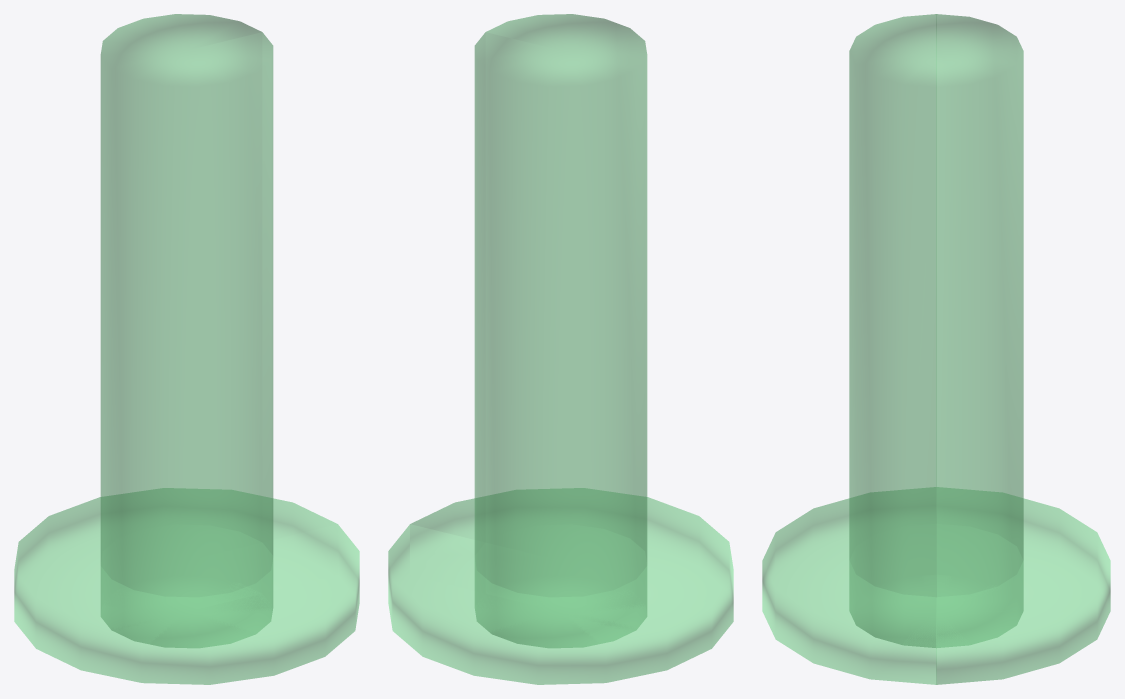
Rendered from prop_banyan_tree_col.glb.
3 views of the same model, side by side, from view 1: azimuth 30°, elevation 25°; view 2: azimuth 150°, elevation 25°; view 3: azimuth 270°, elevation 25° (orthographic).
Parts seen in each view (by area): view 1: prop_banyan_tree_col_0, prop_banyan_tree_col_1; view 2: prop_banyan_tree_col_0, prop_banyan_tree_col_1; view 3: prop_banyan_tree_col_0, prop_banyan_tree_col_1.
Part boxes in pixels (<box>): prop_banyan_tree_col_0: <box>100,14,273,647</box>; prop_banyan_tree_col_1: <box>14,488,359,684</box>; prop_banyan_tree_col_0: <box>474,14,647,647</box>; prop_banyan_tree_col_1: <box>388,488,733,684</box>; prop_banyan_tree_col_0: <box>849,14,1023,647</box>; prop_banyan_tree_col_1: <box>762,487,1110,684</box>.
Size of the model in its own units: 3.61 by 6.42 by 3.61.
